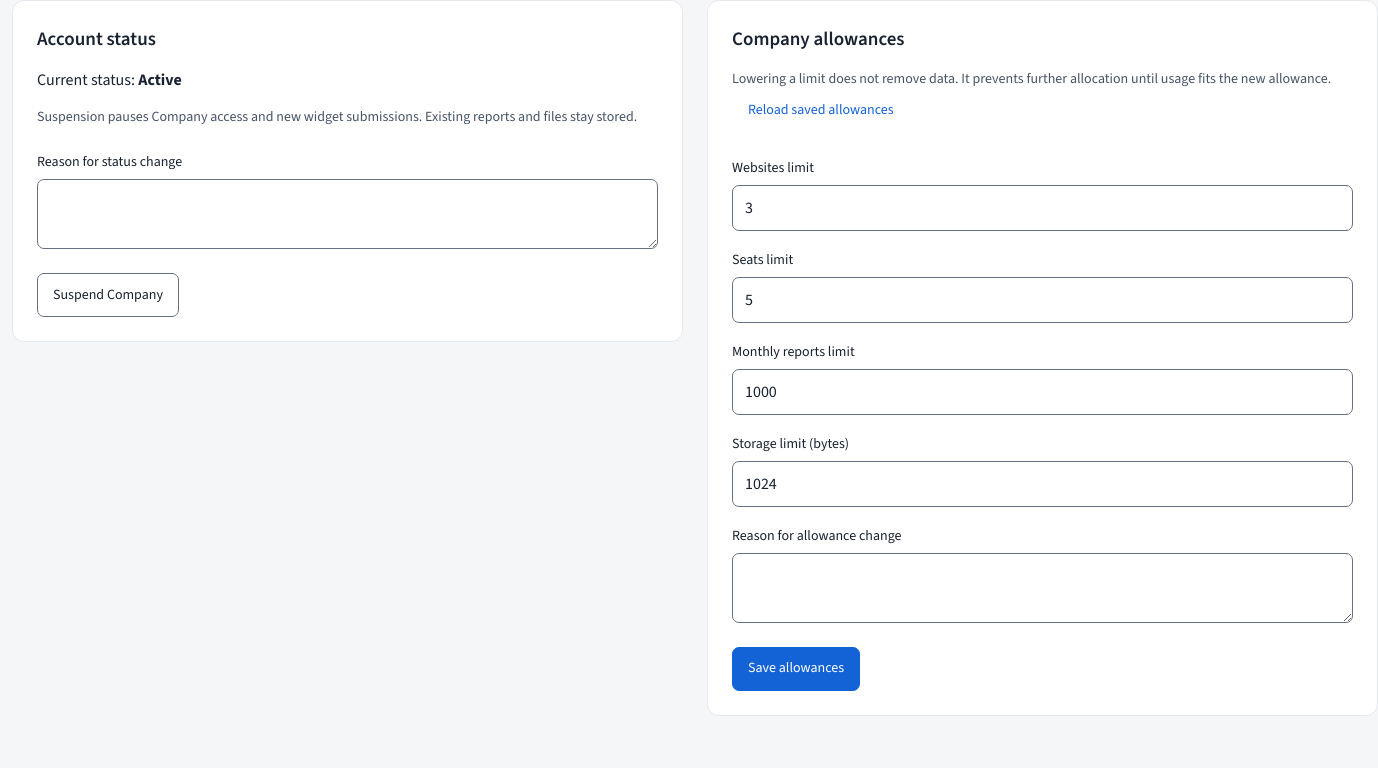
saves edited allowances and clears only their reason
This screenshot has width=1378, height=768.
Replace the text in the number field labelled "Websites limit" with "10". click: (1042, 208)
box: [732,184,1353,230]
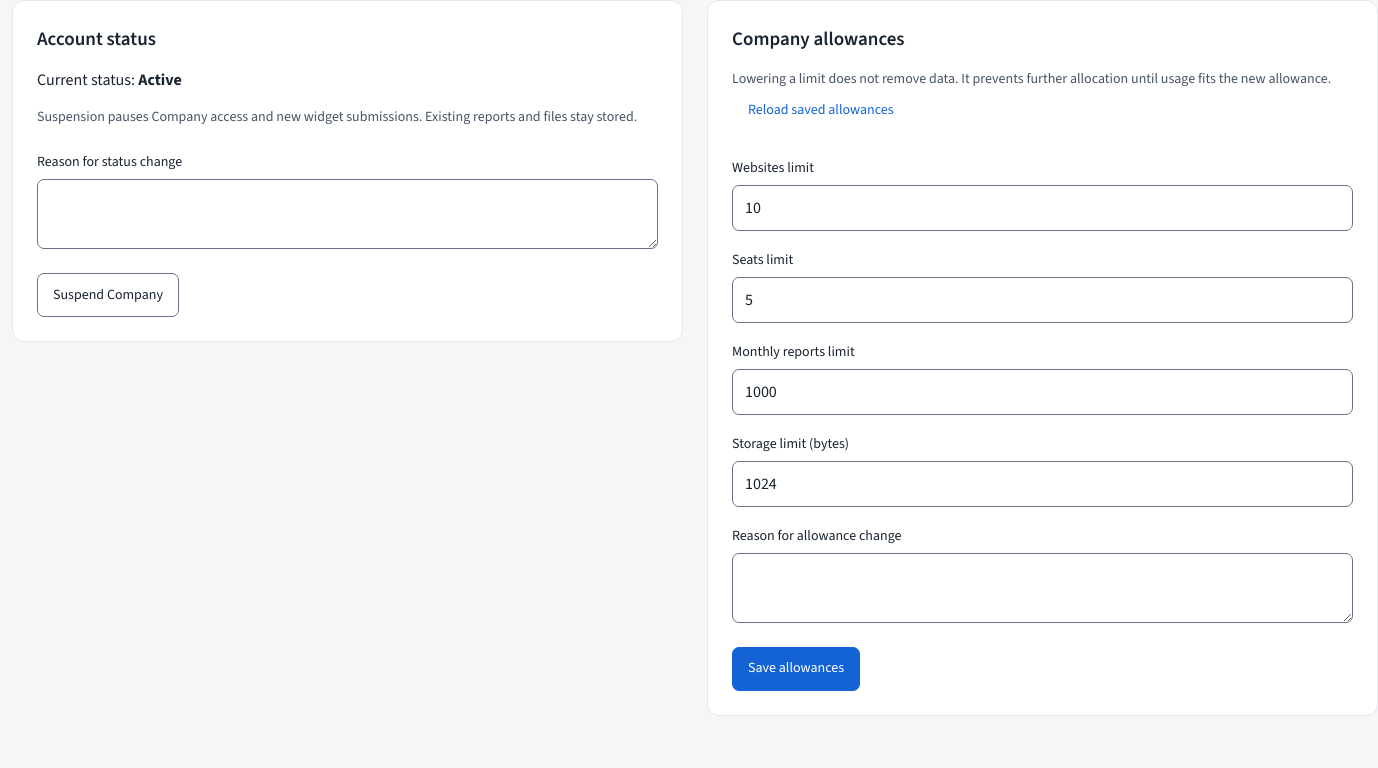
Replace the text in the field labelled "Storage limit (bytes)" with "2048". click: (1042, 484)
box: [732,460,1353,506]
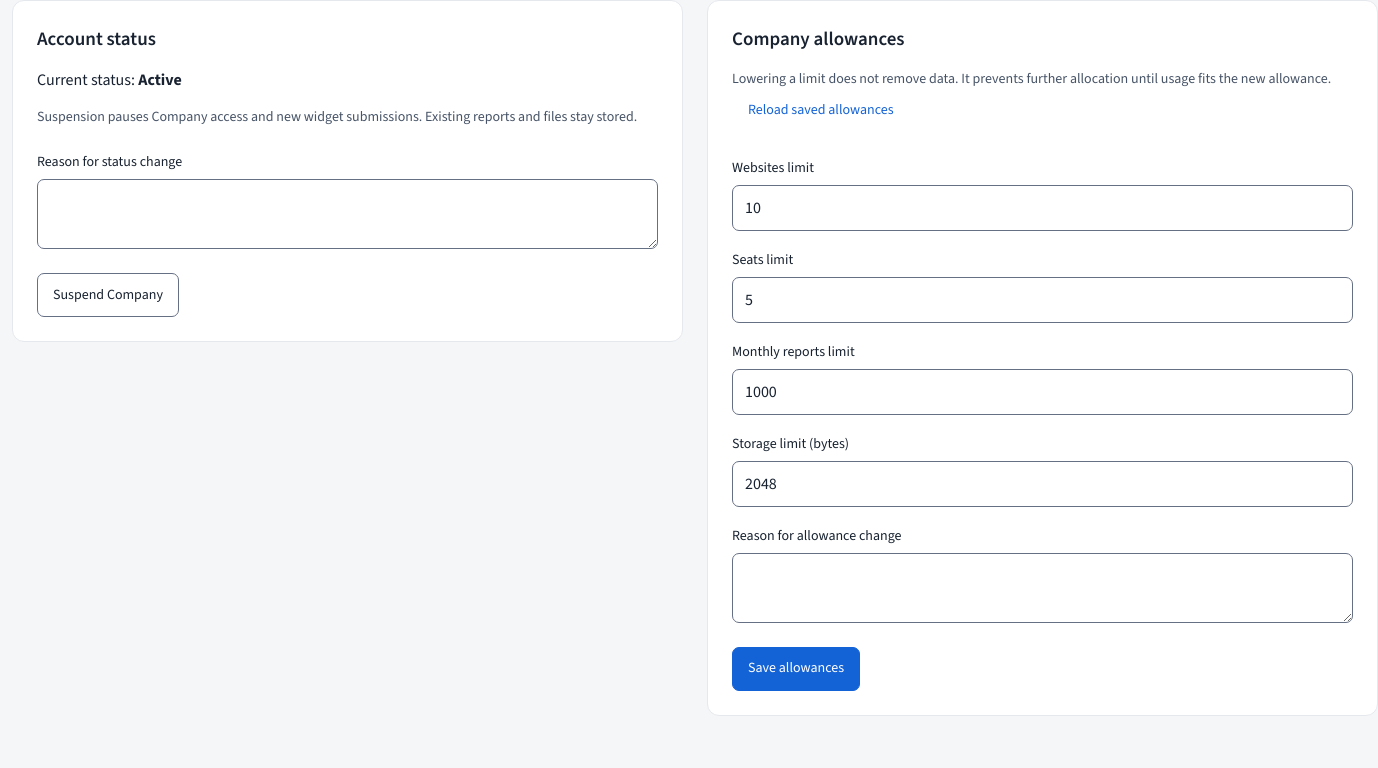
Type "Customer request" into the text box labelled "Reason for allowance change". click: (1042, 588)
box: [732,552,1353,622]
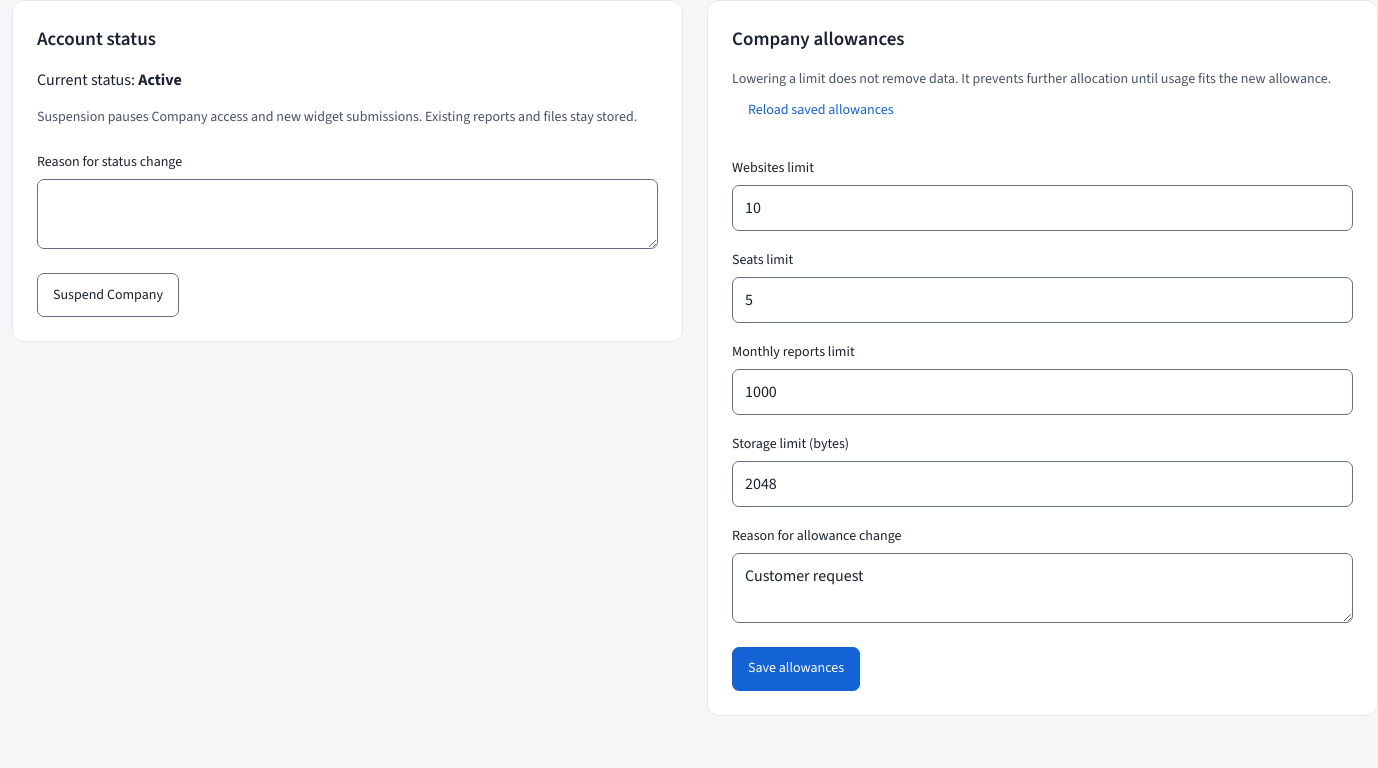
Click the button "Save allowances". click: click(796, 668)
box: [732,646,860,690]
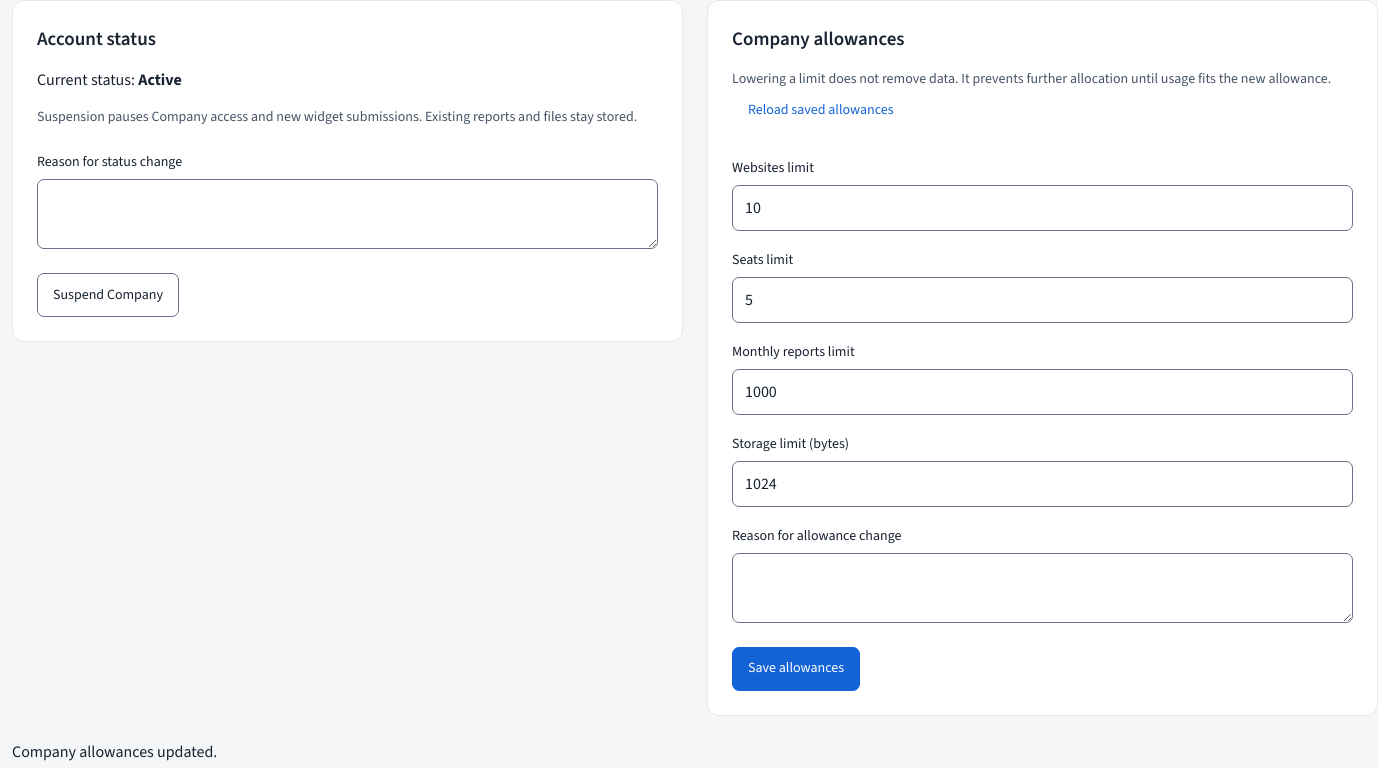
Expected: the text "Company allowances updated." is shown, [12,740,217,762]
Expected: the text box labelled "Reason for allowance change" is empty, [732,552,1353,622]
